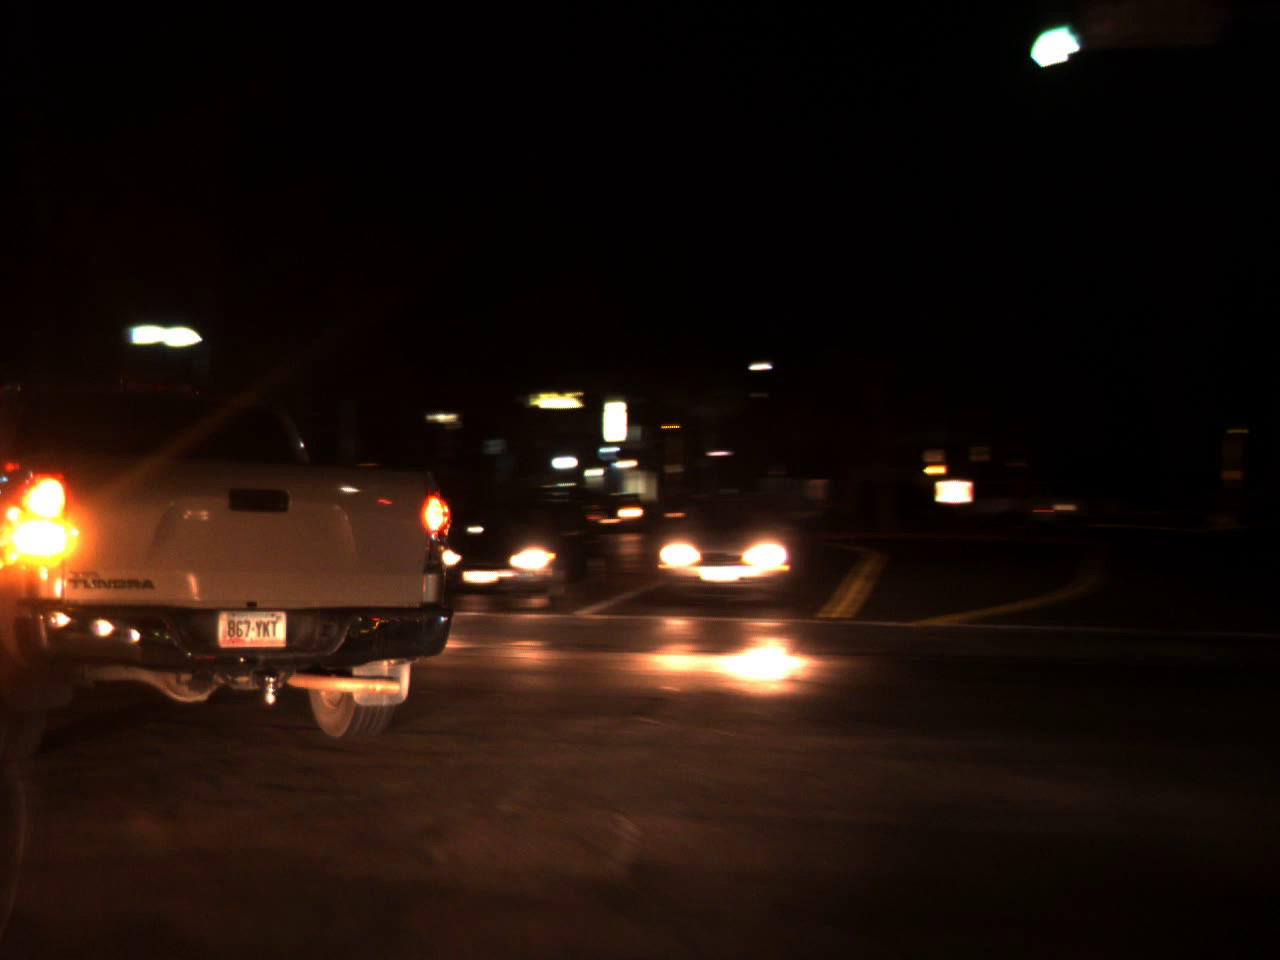go: (1002, 0, 1093, 83)
